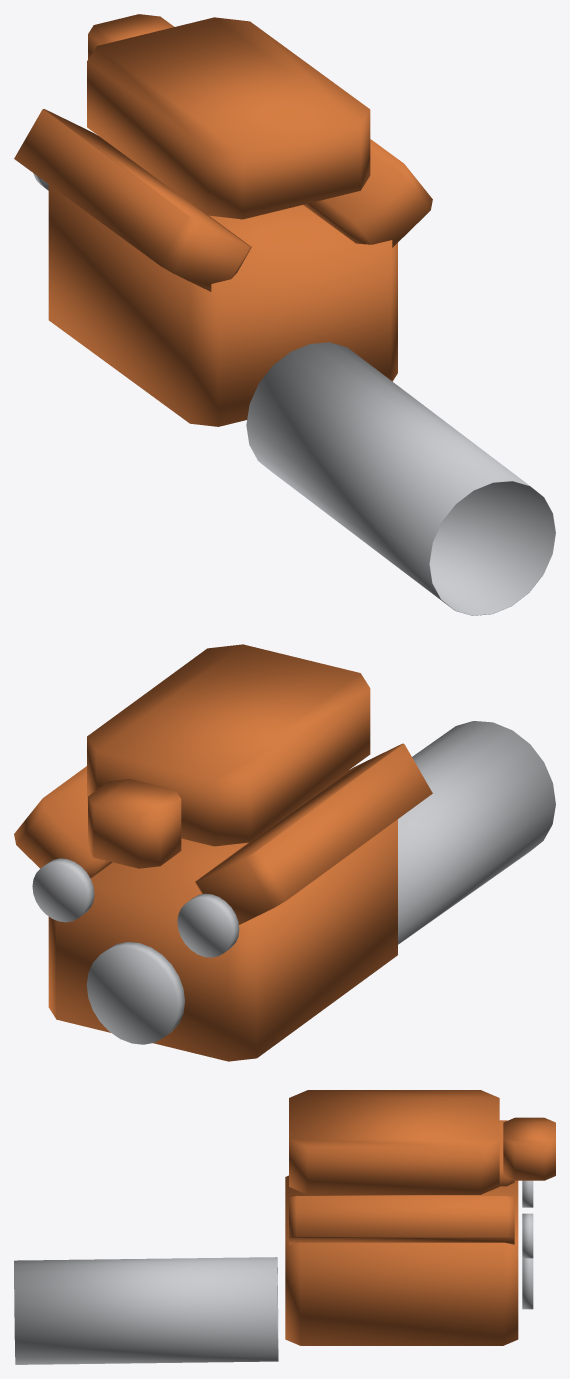
The model's file is engine.fbx.
3 views of the same model, one above another, from view 1: azimuth 30°, elevation 25°; view 2: azimuth 150°, elevation 25°; view 3: azimuth 270°, elevation 25° (orthographic). The views are drawn at different scales.
Parts seen in each view (by area): view 1: CH_Engine, CH_Transmission; view 2: CH_Engine, CH_Transmission, CH_Engine_Pulleys; view 3: CH_Engine, CH_Transmission, CH_Engine_Pulleys.
Boxes of the visible parts, left/top/right/bottom form: CH_Engine: left=14, top=14, right=432, bottom=426; CH_Transmission: left=246, top=342, right=555, bottom=615; CH_Engine: left=14, top=644, right=432, bottom=1061; CH_Transmission: left=398, top=721, right=555, bottom=944; CH_Engine_Pulleys: left=32, top=858, right=239, bottom=1044; CH_Engine: left=285, top=1090, right=555, bottom=1345; CH_Transmission: left=14, top=1257, right=278, bottom=1364; CH_Engine_Pulleys: left=522, top=1180, right=533, bottom=1309.
Size of the model in its own units: 0.6023 by 0.71 by 1.44.
